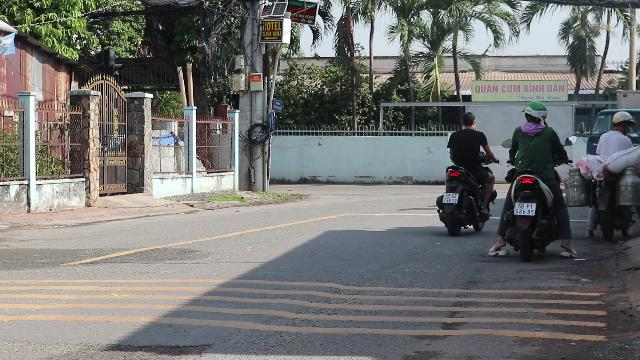helmet: (522, 100, 548, 124), (611, 112, 633, 132)
licenseplate: (514, 203, 536, 215), (442, 193, 458, 203)
motorcyclist: (496, 99, 572, 259), (435, 110, 497, 234), (588, 110, 640, 240)
nohelmet: (459, 112, 476, 128)
